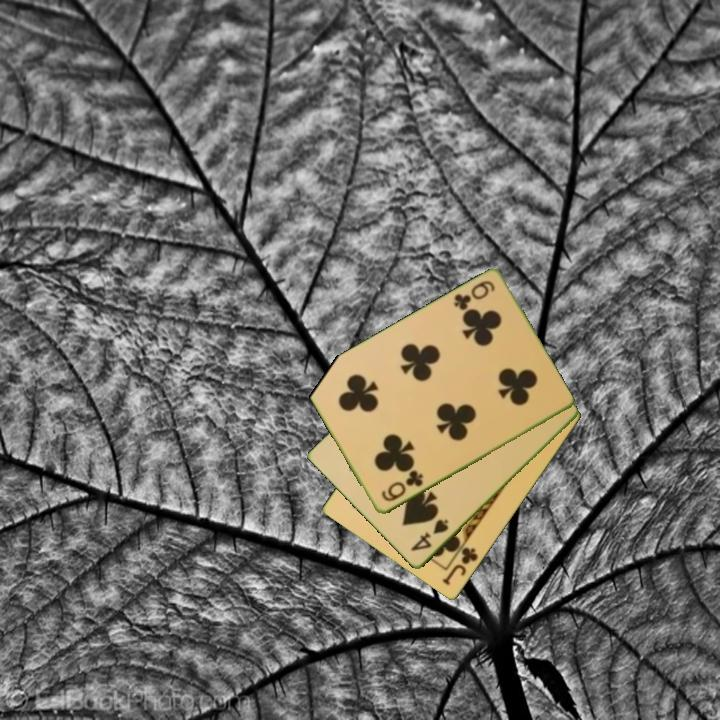4s: (407, 516, 452, 555)
6c: (378, 467, 426, 505), (450, 277, 498, 314)
Jc: (438, 544, 481, 589)
